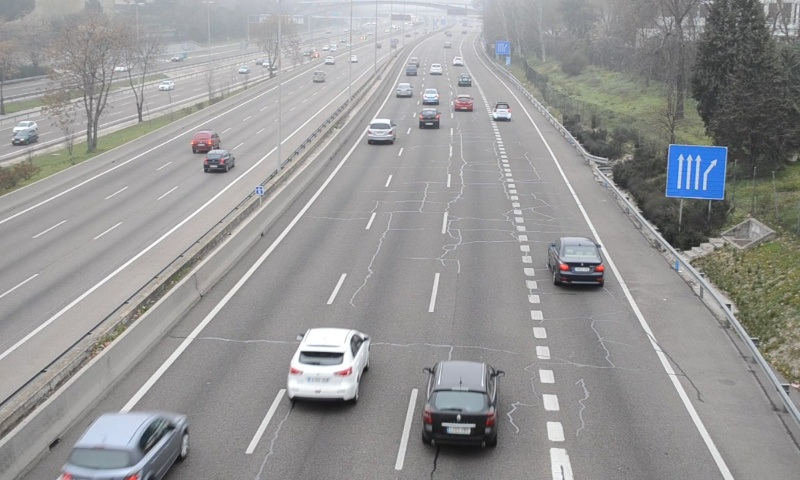car: (56, 412, 188, 480), (424, 359, 498, 450), (290, 327, 372, 405), (547, 236, 606, 289), (366, 118, 396, 145), (418, 108, 440, 130), (492, 101, 512, 122), (454, 94, 474, 112), (394, 82, 414, 99), (422, 88, 439, 105)
